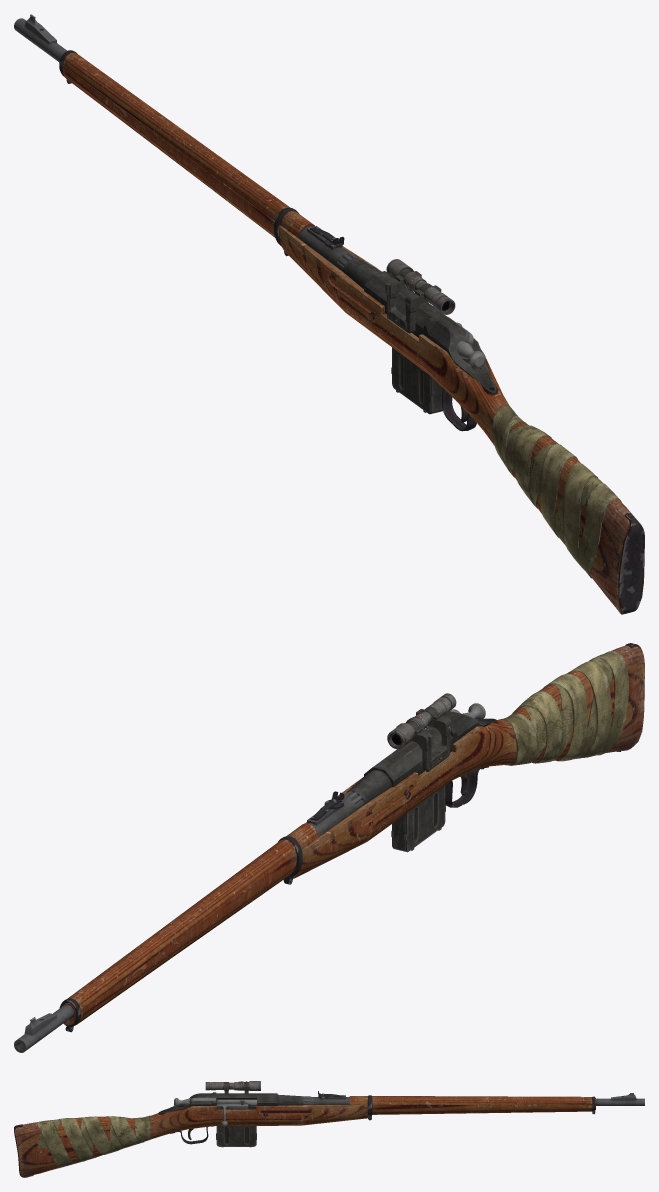
The model's file is Sniper.obj.
3 renders of one model, top to bottom at view 1: azimuth 30°, elevation 25°; view 2: azimuth 150°, elevation 25°; view 3: azimuth 270°, elevation 25°, orthographic. The views are drawn at different scales.
Parts seen in each view (by area): view 1: Sniper_Body_0, Sniper_Body_1, Sniper_Scope_0; view 2: Sniper_Body_0, Sniper_Body_1, Sniper_Scope_0; view 3: Sniper_Body_0, Sniper_Body_1, Sniper_Bolt_0, Sniper_Scope_0.
Boxes of the visible parts, bbox=[...] form: Sniper_Body_0: bbox=[14, 14, 644, 614]; Sniper_Body_1: bbox=[492, 405, 621, 578]; Sniper_Scope_0: bbox=[385, 259, 455, 333]; Sniper_Body_0: bbox=[14, 643, 644, 1052]; Sniper_Body_1: bbox=[498, 651, 628, 765]; Sniper_Scope_0: bbox=[387, 693, 456, 771]; Sniper_Body_0: bbox=[14, 1091, 644, 1177]; Sniper_Body_1: bbox=[36, 1115, 150, 1168]; Sniper_Bolt_0: bbox=[174, 1098, 256, 1126]; Sniper_Scope_0: bbox=[205, 1081, 260, 1093].
Size of the model in its own units: 0.0666 by 0.2045 by 1.23.
Materials: 2 (2 with a texture image).
